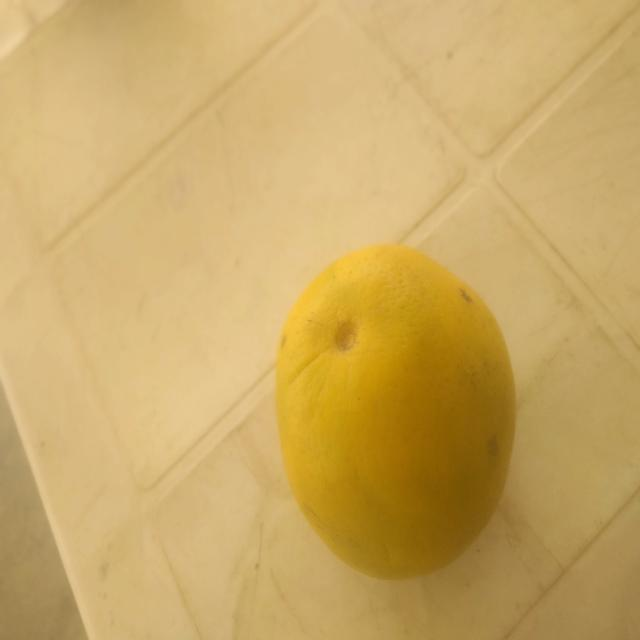Ripe orange: (268, 238, 518, 583)
